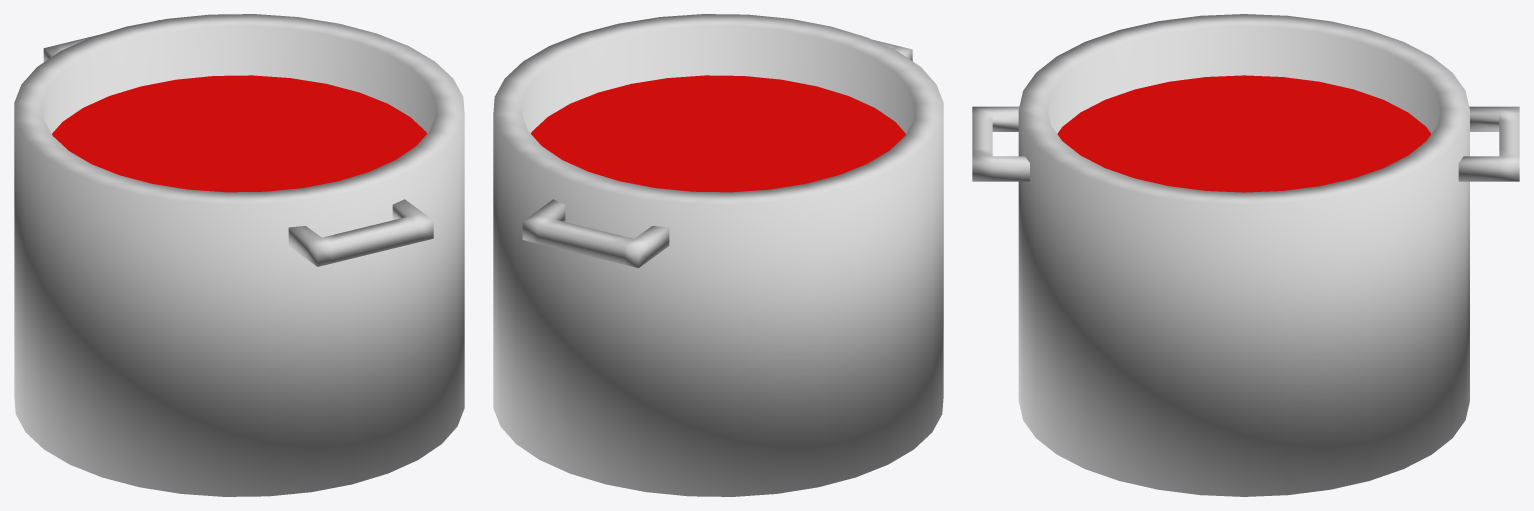
File: soup pot.fbx
The picture shows the model from 3 angles, left to right: view 1: azimuth 30°, elevation 25°; view 2: azimuth 150°, elevation 25°; view 3: azimuth 270°, elevation 25°; orthographic projection.
Visible parts, largest first — view 1: Cylinder.001, Cylinder; view 2: Cylinder.001, Cylinder; view 3: Cylinder.001, Cylinder.
Part boxes in pixels (x1,y1,x2,y2): Cylinder.001: (14, 14, 464, 496); Cylinder: (52, 75, 426, 192); Cylinder.001: (493, 14, 943, 496); Cylinder: (531, 75, 905, 192); Cylinder.001: (972, 14, 1519, 496); Cylinder: (1057, 75, 1430, 192).
Size of the model in its own units: 200 by 143 by 243.
